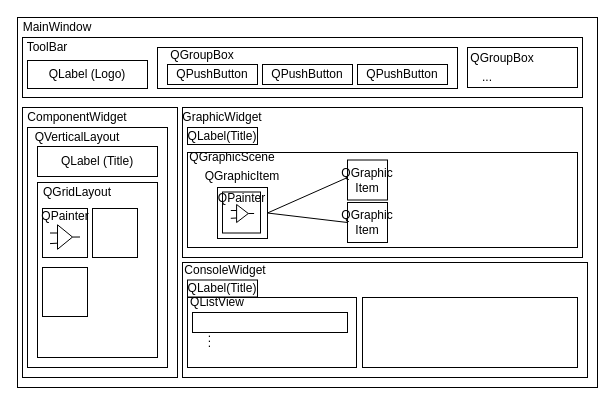
The diagram is 615 pixels wide and 405 high, and some of its shapes have lost their labels. Each missing label, with the box of its shape:
QLineEdit: (192, 312, 348, 332)
QTableView: (362, 296, 578, 368)
